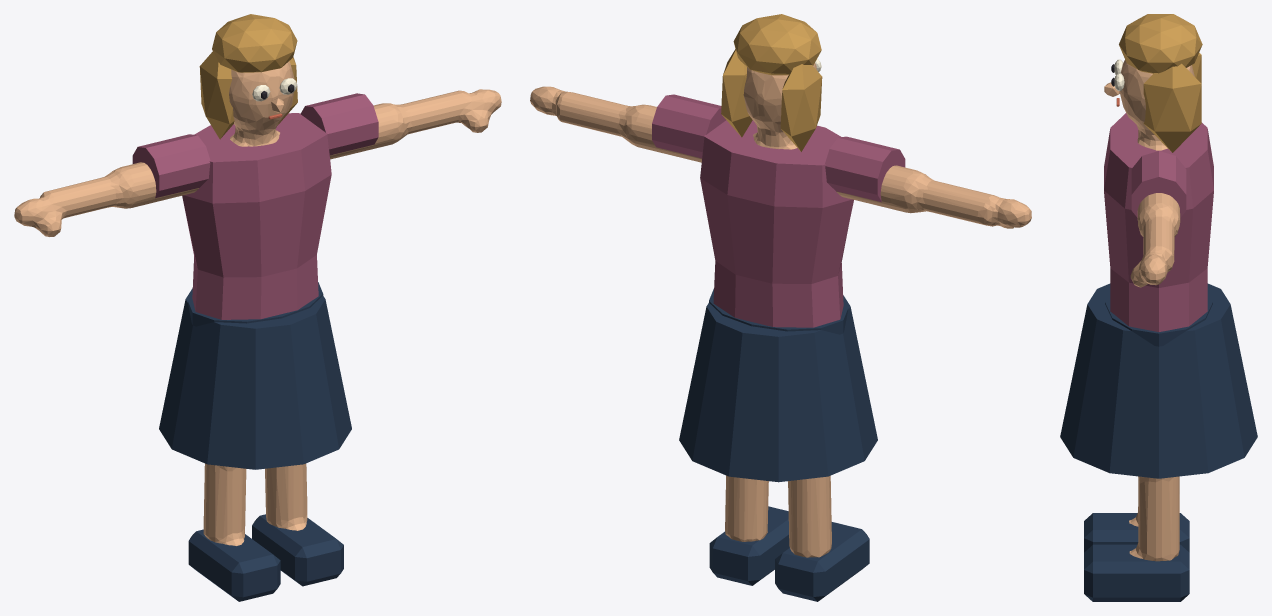
The model's file is Civilian_10.fbx.
3 renders of one model, left to right at view 1: azimuth 30°, elevation 25°; view 2: azimuth 150°, elevation 25°; view 3: azimuth 270°, elevation 25°, orthographic. The views are drawn at different scales.
Parts seen in each view (by area): view 1: Skirt, Shirt.009, Civilian_10_Base_BaseFemale_TPose_Body, Shoe.018, Shoe.019, HairCap.009, Sleeve.018, Sleeve.019, HairSide.006, Belt.009; view 2: Skirt, Shirt.009, Civilian_10_Base_BaseFemale_TPose_Body, Shoe.018, HairCap.009, Shoe.019, Sleeve.018, Sleeve.019, HairSide.006, HairSide.007, Belt.009; view 3: Skirt, Shirt.009, Civilian_10_Base_BaseFemale_TPose_Body, Shoe.019, HairCap.009, HairSide.007, Sleeve.019, Shoe.018, Belt.009.
Part boxes in pixels (x1,y1,x2,y2): Skirt: [159, 288, 351, 469]; Shirt.009: [182, 113, 331, 319]; Civilian_10_Base_BaseFemale_TPose_Body: [14, 61, 501, 545]; Shoe.018: [188, 529, 280, 601]; Shoe.019: [252, 514, 343, 586]; HairCap.009: [212, 14, 297, 72]; Sleeve.018: [132, 134, 210, 198]; Sleeve.019: [300, 93, 378, 155]; HairSide.006: [199, 51, 234, 139]; Belt.009: [188, 282, 323, 326]; Skirt: [679, 295, 877, 482]; Shirt.009: [700, 120, 853, 327]; Civilian_10_Base_BaseFemale_TPose_Body: [530, 63, 1031, 557]; Shoe.018: [775, 522, 869, 601]; HairCap.009: [733, 14, 821, 75]; Shoe.019: [709, 506, 789, 585]; Sleeve.018: [825, 136, 905, 202]; Sleeve.019: [652, 94, 725, 158]; HairSide.006: [780, 64, 822, 151]; HairSide.007: [721, 49, 752, 137]; Belt.009: [709, 289, 848, 334]; Skirt: [1060, 283, 1257, 478]; Shirt.009: [1104, 113, 1213, 331]; Civilian_10_Base_BaseFemale_TPose_Body: [1119, 60, 1194, 561]; Shoe.019: [1084, 544, 1189, 601]; HairCap.009: [1119, 14, 1202, 73]; HairSide.007: [1143, 63, 1201, 152]; Sleeve.019: [1131, 151, 1186, 217]; Shoe.018: [1084, 513, 1189, 552]; Belt.009: [1105, 291, 1212, 346].
Bounding box in the file's own units: 1.61 × 1.75 × 0.5568.
